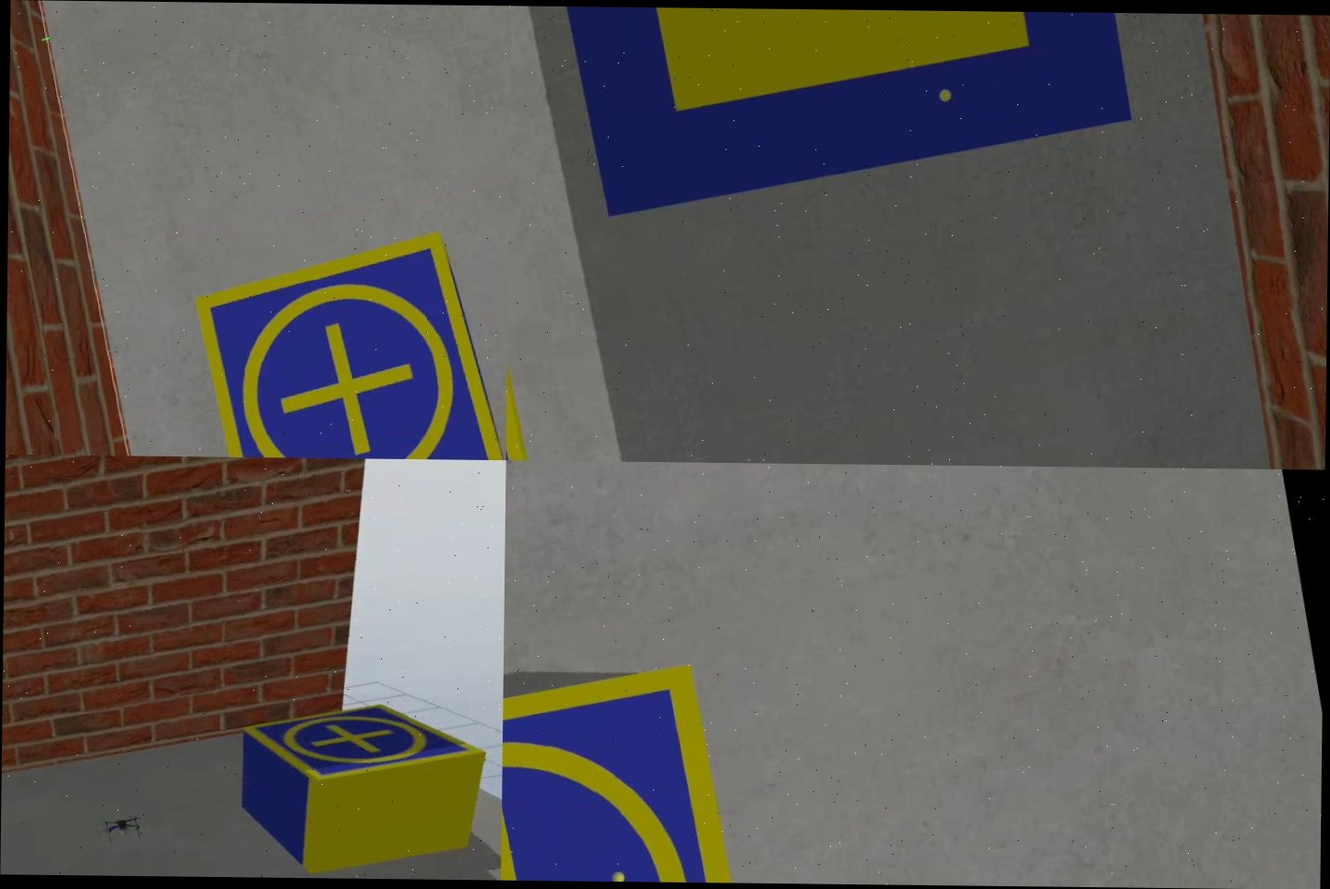large_base: (536, 6, 1143, 227)
small_base: (185, 218, 509, 460), (501, 656, 777, 883), (241, 689, 488, 801)
